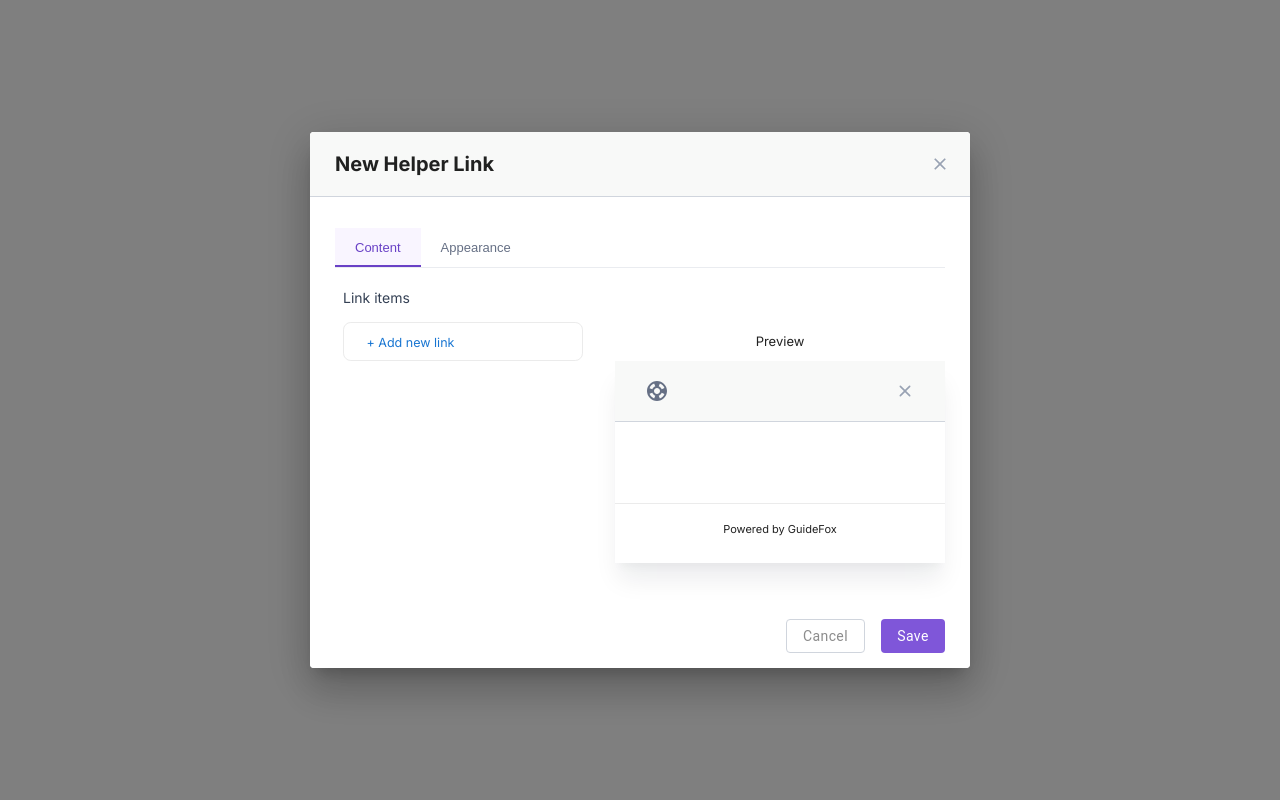
Test Helper Link popup › Test the appearance and the preview › should change the title on the preview when a title is typed
Click the button "Appearance": x=476, y=247 [420,228,531,267]
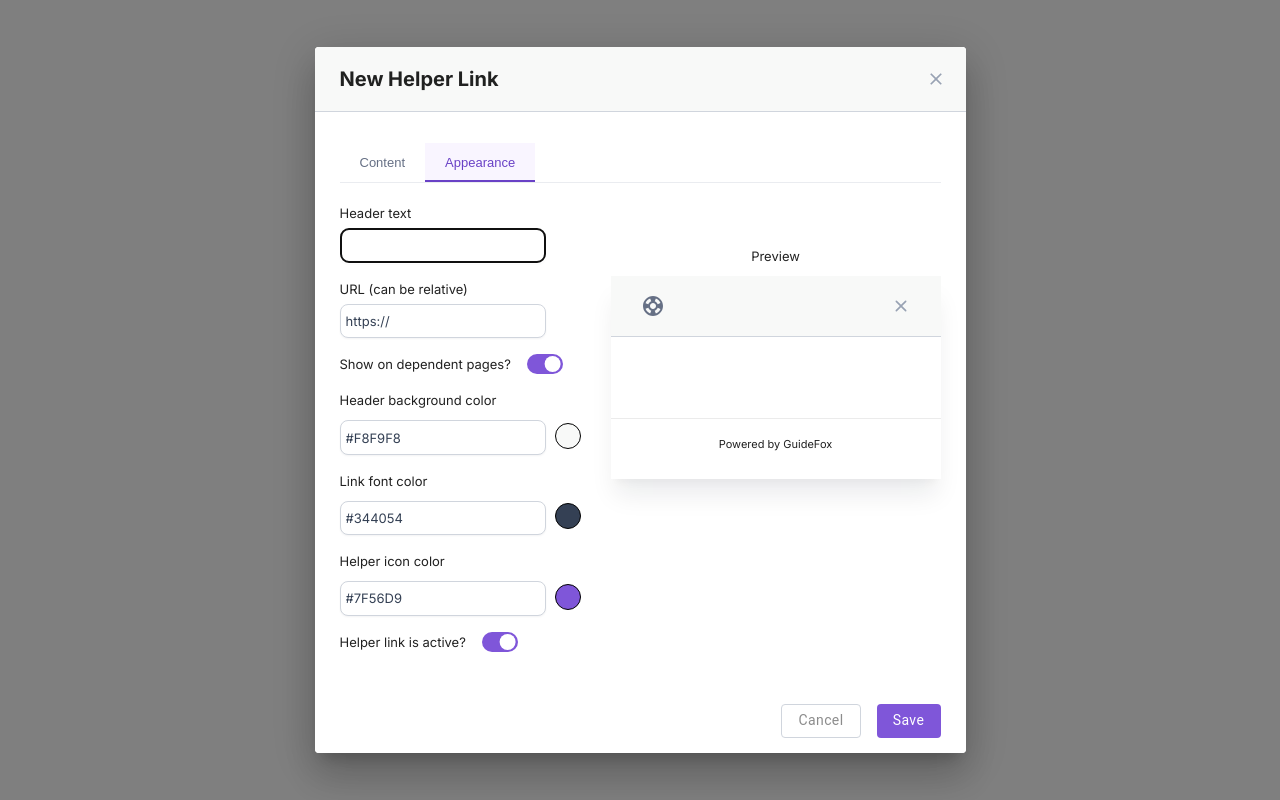
In the field labelled "Header text": x=442, y=246 [340,228,546,263], type "Title"
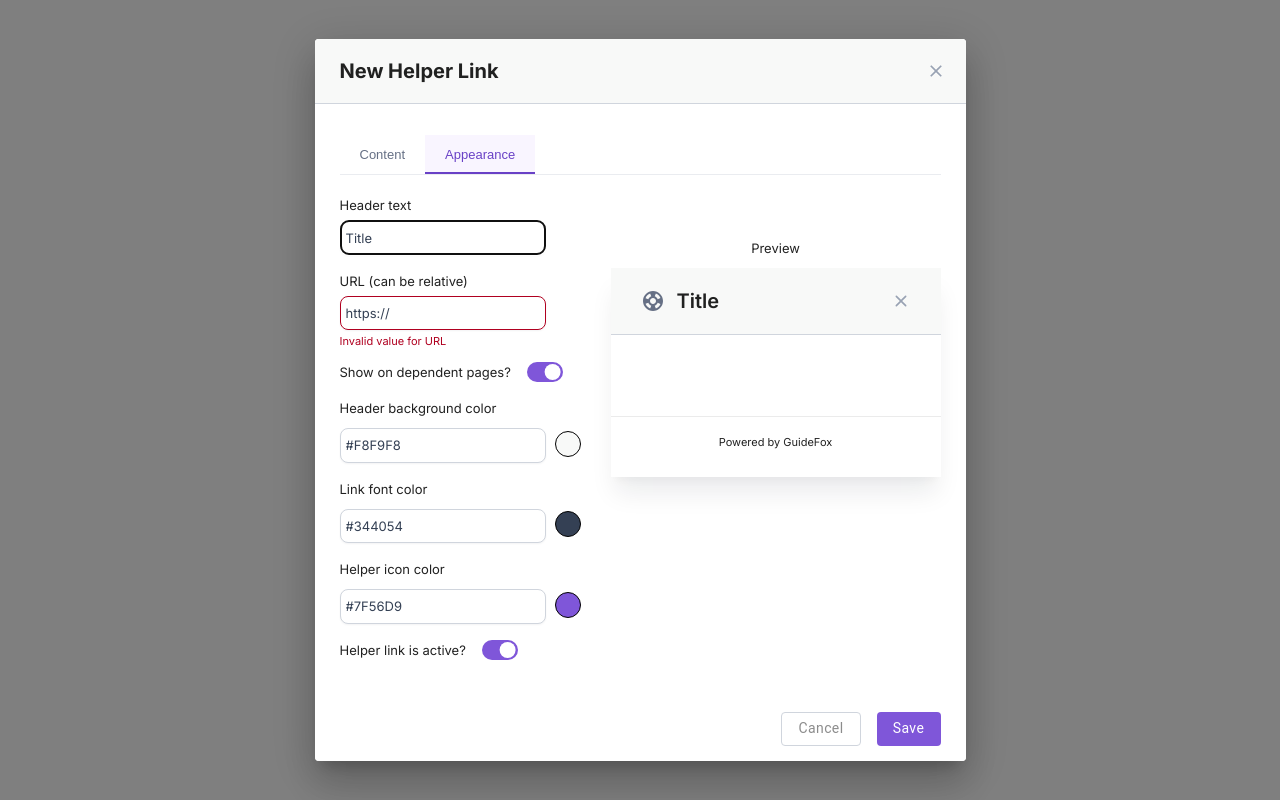
Check: the text "Title" is shown, box [676,289,719,313]
